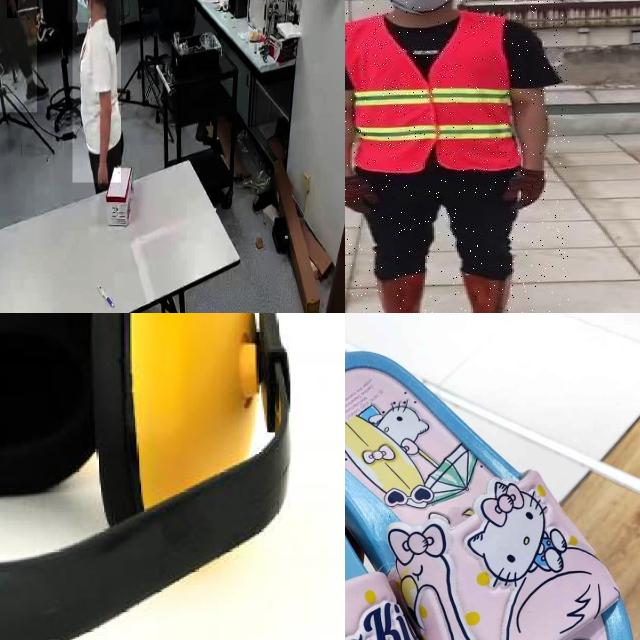Ear-protection: (0, 313, 286, 640)
Sandals: (345, 323, 640, 640)
boots: (459, 270, 530, 313), (368, 274, 429, 313)
face_mask: (68, 0, 91, 22)
hand_noglove: (95, 163, 109, 191), (7, 0, 18, 19)
person: (345, 0, 569, 313), (72, 0, 121, 183), (0, 0, 37, 113)
shoes: (21, 75, 52, 103)
vest: (345, 14, 519, 174)
